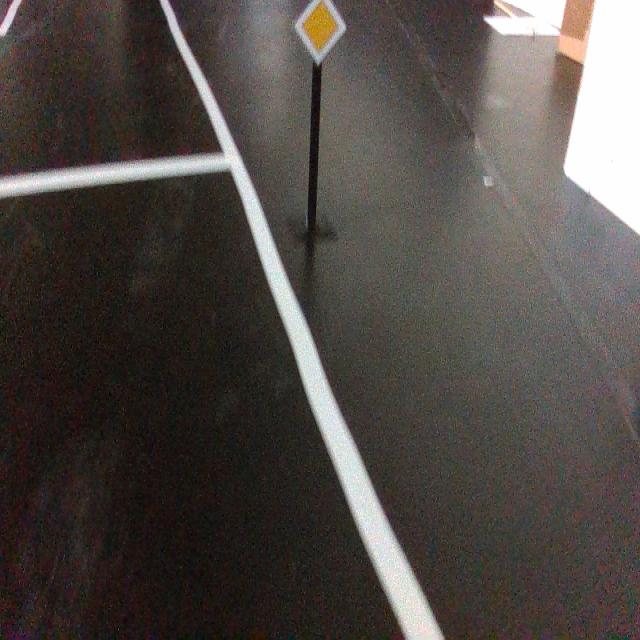priority-sign: (293, 0, 347, 68)
